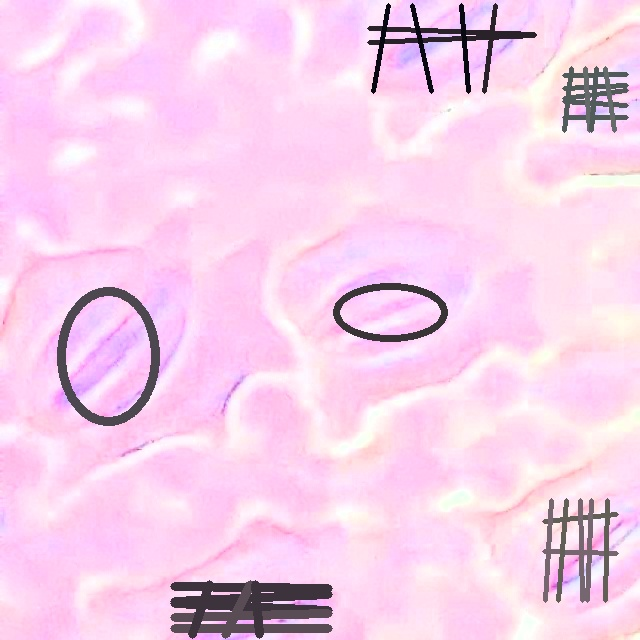open: (367, 3, 536, 93), (58, 287, 159, 425), (171, 581, 331, 637), (542, 499, 618, 602), (332, 283, 449, 342), (562, 67, 627, 132)
